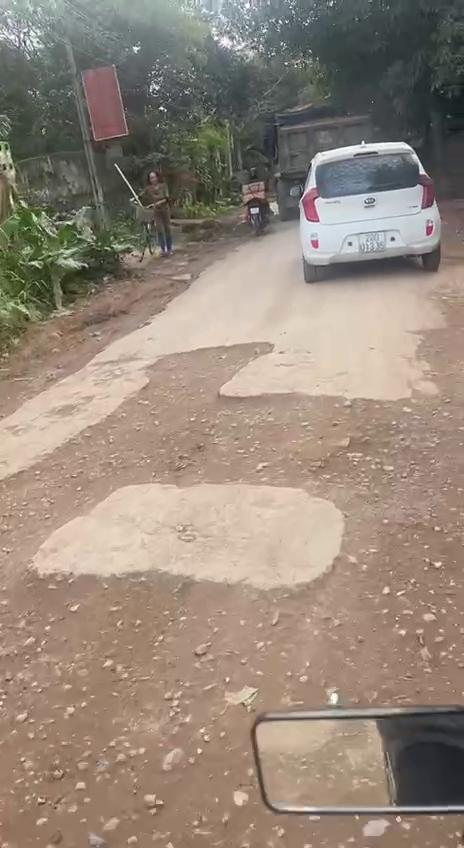pothole: (0, 331, 464, 848)
